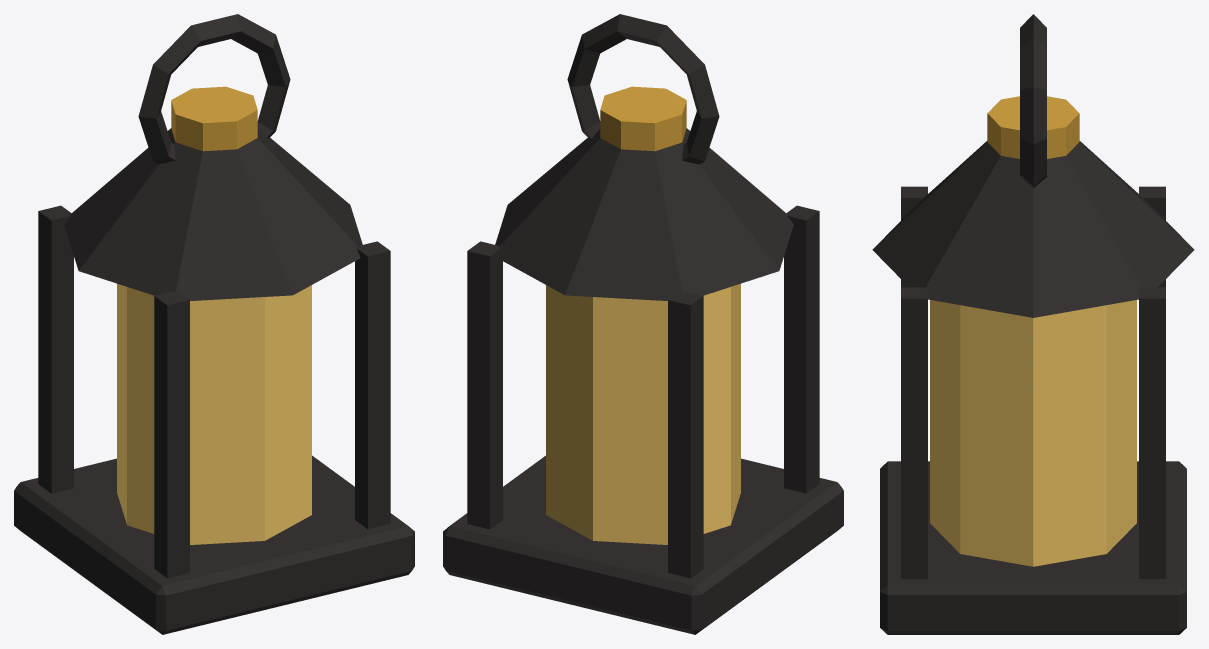
The model's file is Lantern.fbx.
3 views of the same model, side by side, from view 1: azimuth 30°, elevation 25°; view 2: azimuth 150°, elevation 25°; view 3: azimuth 270°, elevation 25° (orthographic). The views are drawn at different scales.
Visible parts, largest first — view 1: Lantern; view 2: Lantern; view 3: Lantern.
Part boxes in pixels (x1,y1,x2,y2): Lantern: (14, 14, 414, 634); Lantern: (443, 14, 843, 634); Lantern: (872, 14, 1194, 634).
Size of the model in its own units: 0.8 by 1.5 by 0.8.
1 material, 1 textured.
